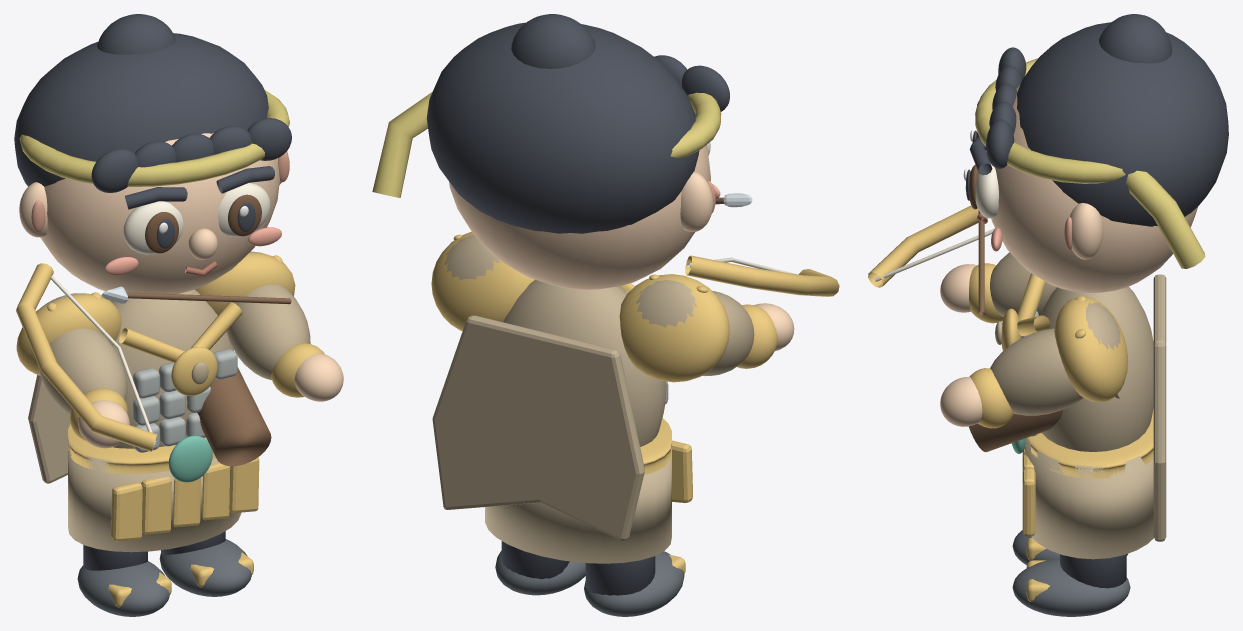
File: bandit_archer.fbx
3 renders of one model, left to right at view 1: azimuth 30°, elevation 25°; view 2: azimuth 150°, elevation 25°; view 3: azimuth 270°, elevation 25°, orthographic. The views are drawn at different scales.
Parts seen in each view (by area): view 1: hair_mass, face, robe_skirt, body, headband, sleeve, quiver, recurve_bow, sleeve.001, boot, boot.001, shoulder_gold.001 (+42 smaller); view 2: hair_mass, cape, face, robe_skirt, body, shoulder_gold.001, shoulder_gold, hair_bun, recurve_bow, headband_tail, boot, leg (+12 smaller); view 3: hair_mass, face, robe_skirt, body, sleeve, shoulder_gold, boot.001, cape, headband, headband_tail, belt, hair_bun (+21 smaller).
Part boxes in pixels (box(x1,y1,x2,y2)): hair_mass: box(14, 33, 268, 186); face: box(40, 133, 279, 294); robe_skirt: box(68, 438, 241, 552); body: box(110, 289, 233, 448); headband: box(19, 89, 289, 186); sleeve: box(226, 284, 310, 380); quiver: box(197, 367, 271, 466); recurve_bow: box(16, 263, 157, 451); sleeve.001: box(38, 328, 127, 414); boot: box(77, 561, 169, 616); boot.001: box(159, 539, 251, 596); shoulder_gold.001: box(16, 293, 121, 375); hair_mass: box(426, 22, 699, 233); cape: box(432, 315, 644, 540); face: box(449, 145, 710, 289); robe_skirt: box(485, 452, 671, 563); body: box(503, 279, 666, 446); shoulder_gold.001: box(619, 274, 729, 382); shoulder_gold: box(431, 231, 534, 331); hair_bun: box(511, 14, 595, 68); recurve_bow: box(685, 255, 839, 296); headband_tail: box(372, 92, 432, 197); boot: box(584, 551, 684, 616); leg: box(585, 556, 655, 595); hair_mass: box(1017, 22, 1228, 226); face: box(985, 84, 1197, 292); robe_skirt: box(1024, 438, 1153, 559); body: box(1040, 286, 1153, 451); sleeve: box(990, 328, 1083, 415); shoulder_gold: box(1054, 296, 1128, 402); boot.001: box(1012, 558, 1130, 616); cape: box(1153, 274, 1166, 541); headband: box(975, 58, 1125, 183); headband_tail: box(1126, 170, 1205, 268); belt: box(1027, 409, 1153, 478); hair_bun: box(1099, 14, 1172, 63).
Size of the model in its own units: 1.41 by 2.46 by 1.41.
